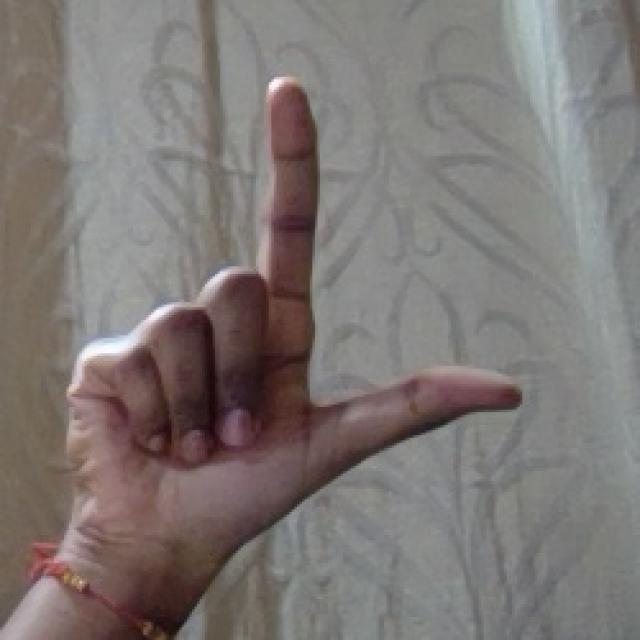Alphabet-L: (0, 77, 522, 639)
